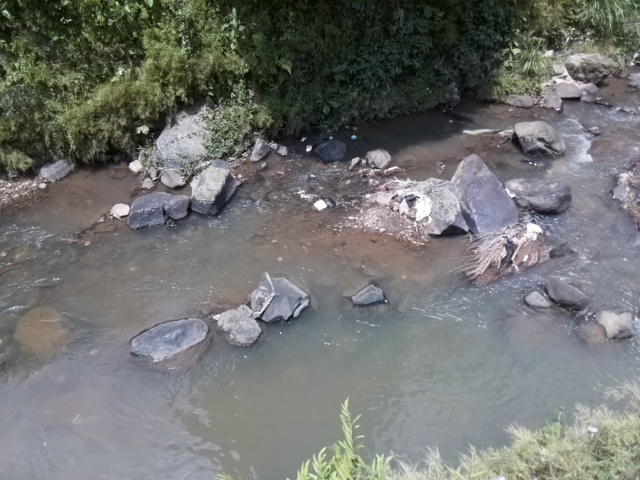Sampah_Styrofoam: (314, 198, 329, 211)
